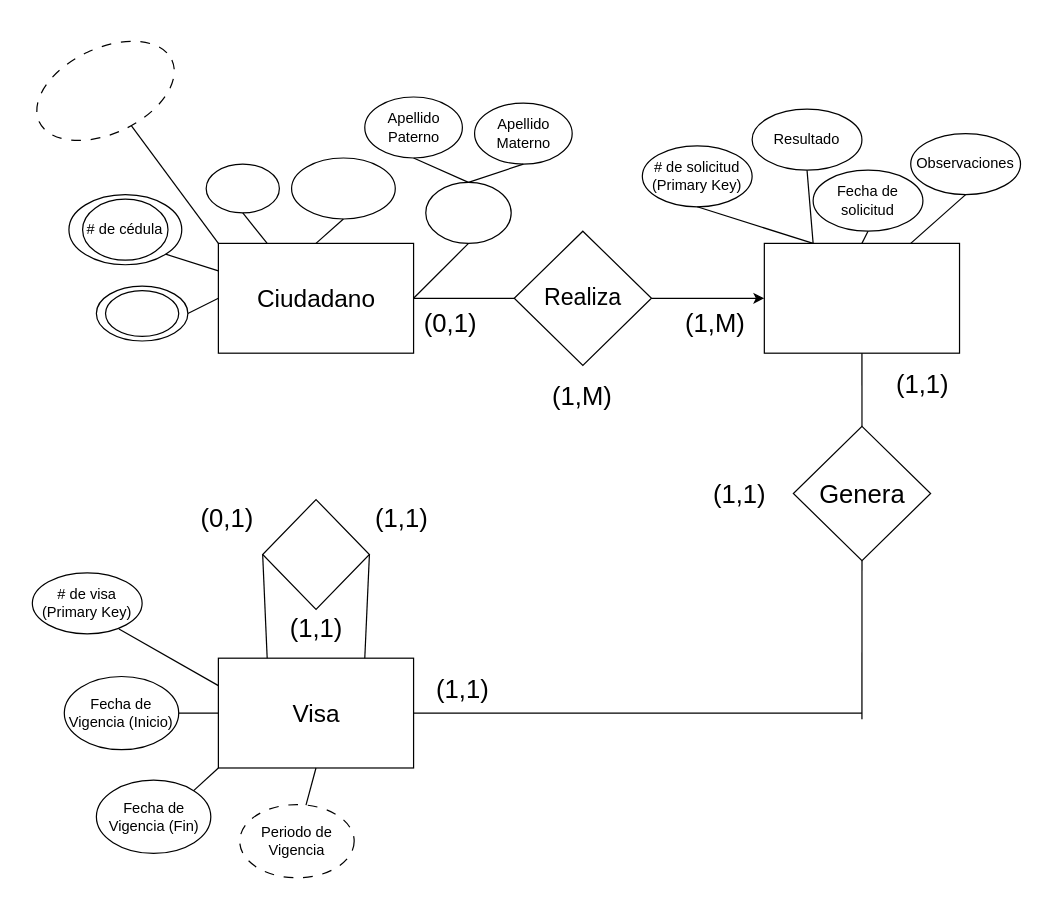
Some shapes in this 1043 by 900 pixel diagram are drawn without their labels. The centre of each missing label's shape, as x and y in pixels:
"CURP (primary key)" belongs at pixel 105 90.
"E-mail" belongs at pixel 141 313.
"Edad" belongs at pixel 242 188.
"Fecha de Nacimiento" belongs at pixel 342 188.
"Nombre" belongs at pixel 468 212.
"Renueva" belongs at pixel 315 553.
"Solicitud" belongs at pixel 861 297.
